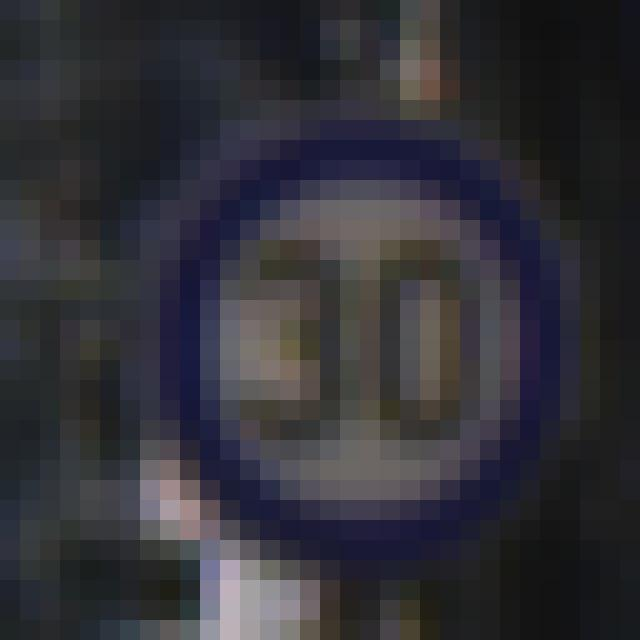SPEED LIMIT 30: (200, 146, 594, 542)
